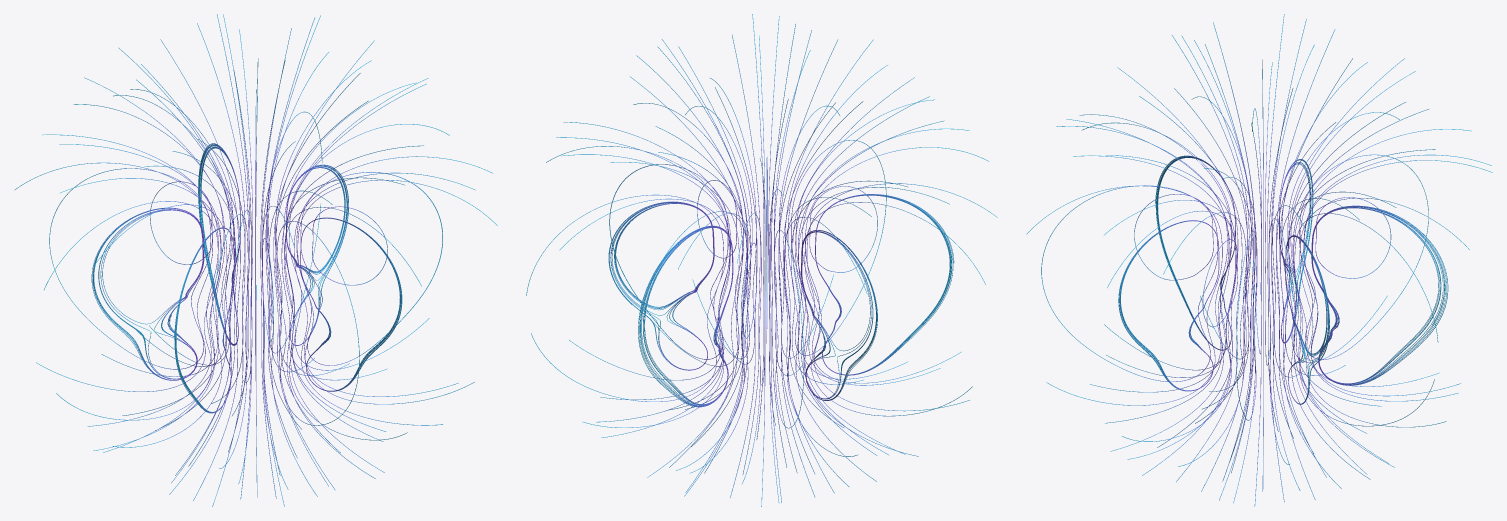
The model's file is coil_3_field_lines.gltf.
3 views of the same model, side by side, from view 1: azimuth 30°, elevation 25°; view 2: azimuth 150°, elevation 25°; view 3: azimuth 270°, elevation 25° (orthographic).
Parts seen in each view (by area): view 1: Renderer Node; view 2: Renderer Node; view 3: Renderer Node.
Part boxes in pixels (x1=…): Renderer Node: x1=14, y1=14, x2=497, y2=506; Renderer Node: x1=526, y1=14, x2=997, y2=506; Renderer Node: x1=1026, y1=14, x2=1492, y2=506.
Bounding box in the file's own units: 2.05 × 2.06 × 1.97.
1 material, 1 textured.
